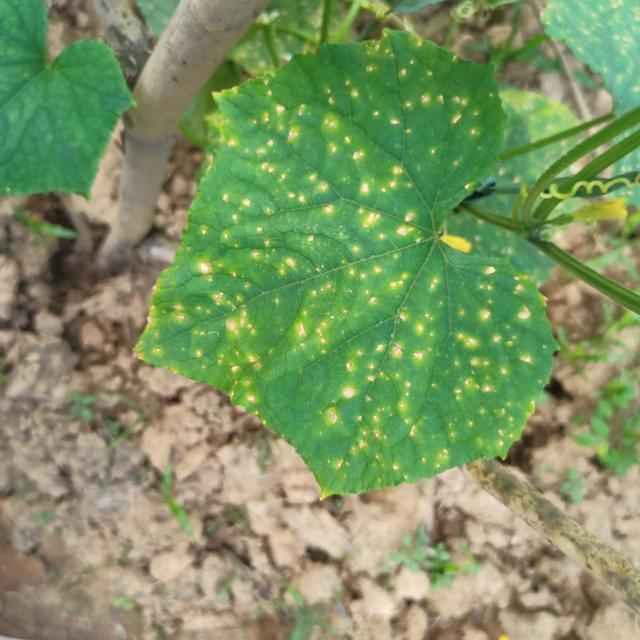disease_cucumber: (174, 45, 547, 472)
